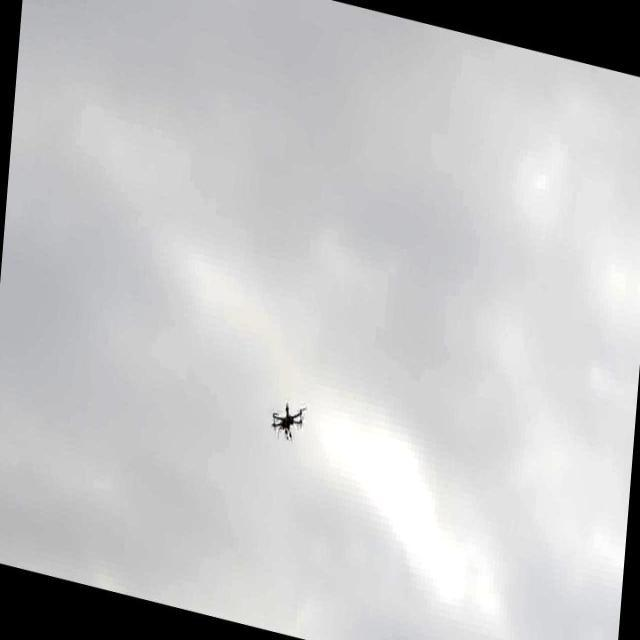drone: (268, 393, 308, 445)
